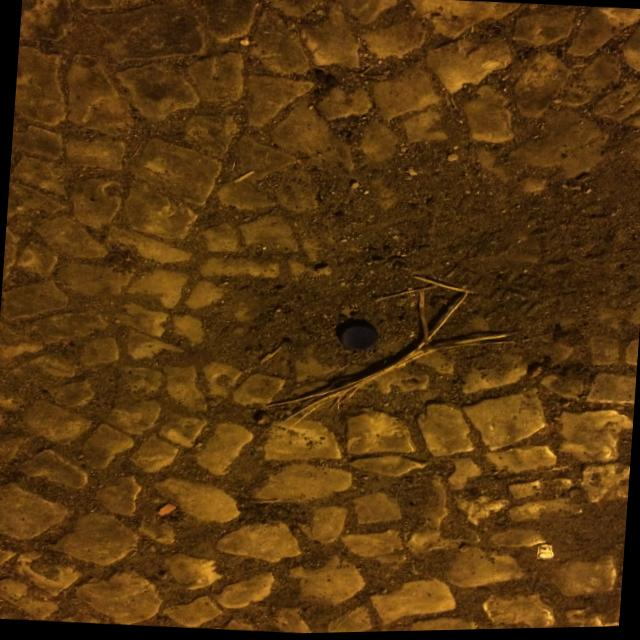Plastic: (337, 319, 381, 355)
